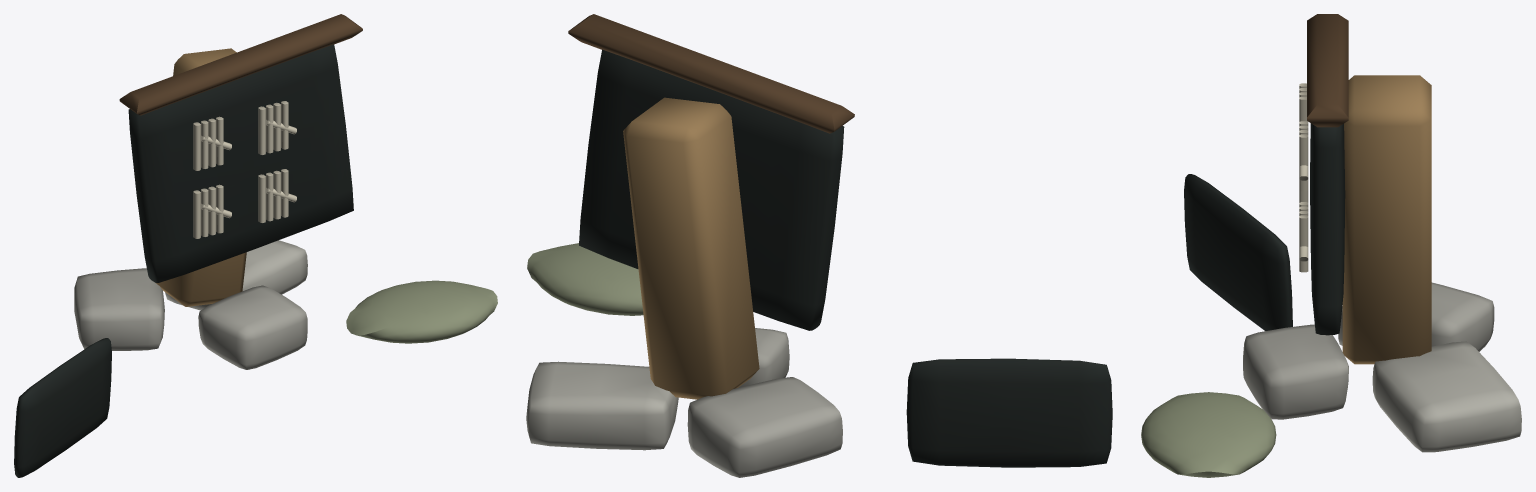
The model's file is tally_post_b.glb.
3 renders of one model, left to right at view 1: azimuth 30°, elevation 25°; view 2: azimuth 150°, elevation 25°; view 3: azimuth 270°, elevation 25°, orthographic. The views are drawn at different scales.
Visible parts, largest first — view 1: Surface; view 2: Surface; view 3: Surface.
Part boxes in pixels (<box>): Surface: <box>14,14,497,477</box>; Surface: <box>526,14,1112,477</box>; Surface: <box>1141,14,1521,477</box>.
Size of the model in its own units: 2.24 by 1.46 by 1.28.
